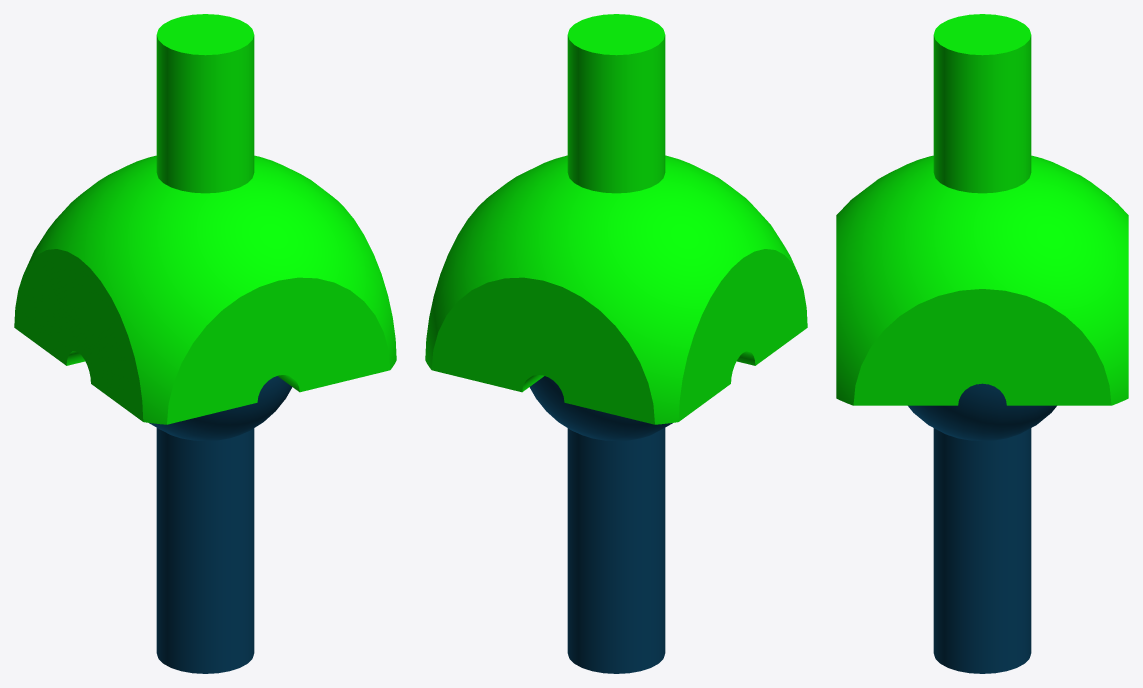
The model's file is ball-socket v4.glb.
3 renders of one model, left to right at view 1: azimuth 30°, elevation 25°; view 2: azimuth 150°, elevation 25°; view 3: azimuth 270°, elevation 25°, orthographic.
Visible parts, largest first — view 1: Body2, Body1; view 2: Body2, Body1; view 3: Body2, Body1.
Boxes of the visible parts, <box> form: Body2: <box>14,14,396,424</box>; Body1: <box>149,376,292,673</box>; Body2: <box>425,14,807,424</box>; Body1: <box>529,376,672,673</box>; Body2: <box>836,14,1128,405</box>; Body1: <box>908,383,1056,673</box>.
Bounding box in the file's own units: 0.03 × 0.07 × 0.03.
